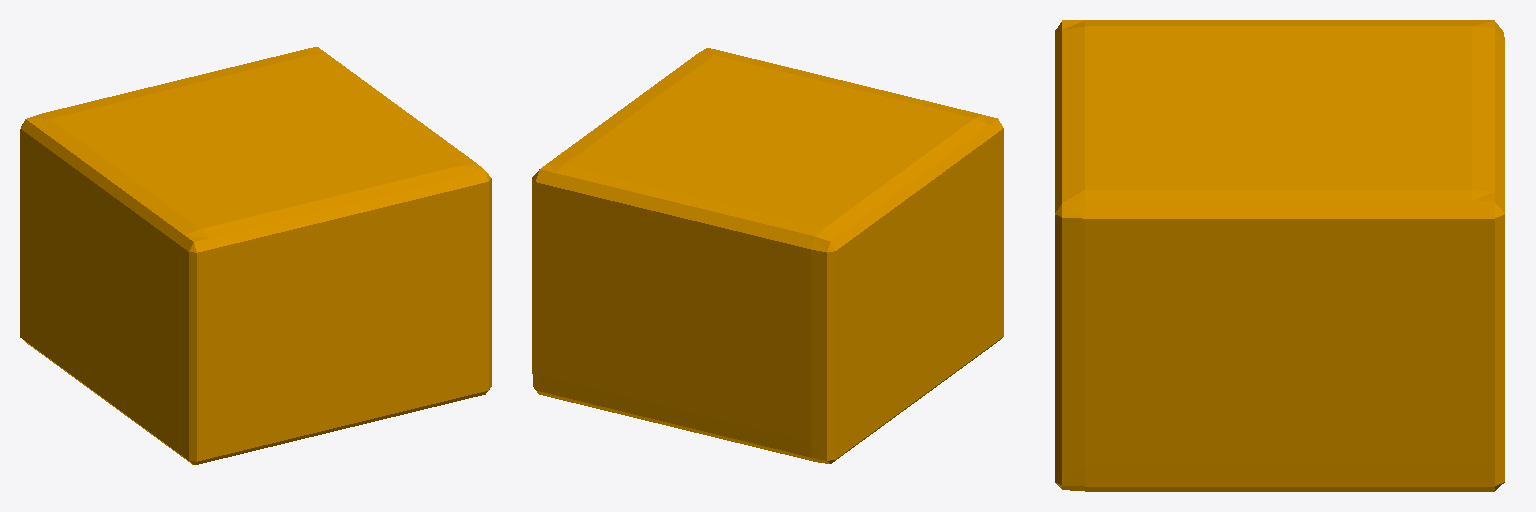
robot.urdf — cylinder_box_113:
<?xml version="1.0" encoding="utf-8"?>  <robot name="cylinder_box_113">   <link name="cylinder_box_113">     <visual>       <geometry>         <mesh filename="../meshes/box/box_113.stl" scale="1 1 1"/>       </geometry>     </visual>     <collision>       <geometry>         <mesh filename="../meshes/box/box_113.stl" scale="1 1 1"/>       </geometry>     </collision>     <inertial>        <origin         xyz="0 0 0"         rpy="0 0 0" />       <mass value="0.6903485684251661"/>       <origin rpy="0 0 0" xyz="0 0 0"/>       <inertia ixx="0.0008468851883396953" ixy="-3.703454256128432e-07" ixz="5.7214054647664304e-08" iyy="0.0008460036125162006" iyz="3.677337315728149e-08" izz="0.0011208756716563782"/>     </inertial>   </link>  </robot>

--- Render facts (derived) ---
Views: 3 orthographic renders of the robot side by side, from view 1: azimuth 30°, elevation 25°; view 2: azimuth 150°, elevation 25°; view 3: azimuth 270°, elevation 25°.
Robot: cylinder_box_113 — 1 links, 0 joints (none); root link cylinder_box_113; default pose: every joint at zero.
Visible links, largest first — view 1: cylinder_box_113; view 2: cylinder_box_113; view 3: cylinder_box_113.
Link boxes in pixels (box(x1,y1,x2,y2)): cylinder_box_113: box(20, 47, 491, 464); cylinder_box_113: box(532, 48, 1003, 463); cylinder_box_113: box(1055, 20, 1504, 491).
Size in the robot's own frame: 0.099 by 0.0991 by 0.0708 metres.
1 mesh visuals loaded from 1 distinct referenced files (1 binary STL).